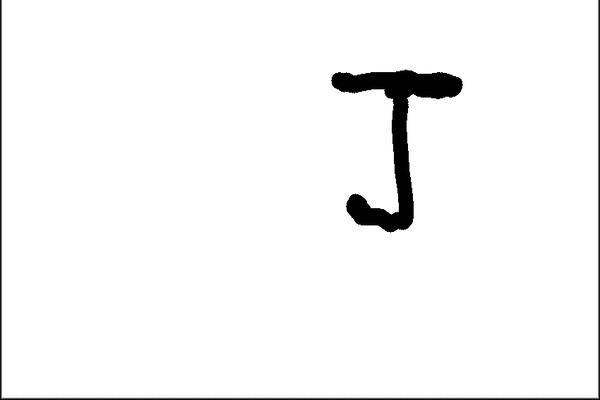J: (321, 55, 469, 243)
